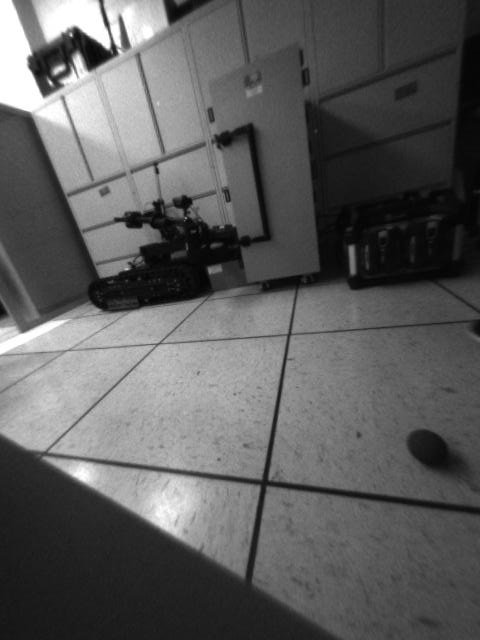dogtoy: (401, 419, 459, 474)
